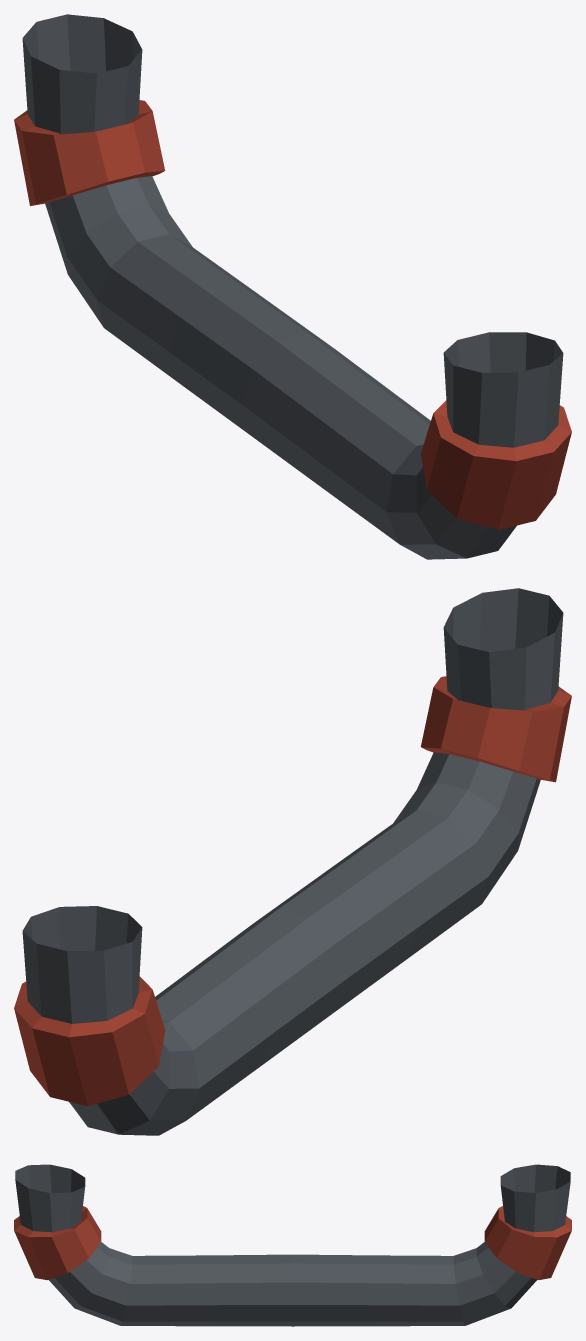
The model's file is Dropship_03_Piping_Small_Red.fbx.
3 renders of one model, top to bottom at view 1: azimuth 30°, elevation 25°; view 2: azimuth 150°, elevation 25°; view 3: azimuth 270°, elevation 25°, orthographic. The views are drawn at different scales.
Parts seen in each view (by area): view 1: Dropship_03_Piping_Small_Red; view 2: Dropship_03_Piping_Small_Red; view 3: Dropship_03_Piping_Small_Red.
Part boxes in pixels (box(x1,y1,x2,y2)): Dropship_03_Piping_Small_Red: box(14, 14, 571, 559); Dropship_03_Piping_Small_Red: box(14, 588, 571, 1135); Dropship_03_Piping_Small_Red: box(14, 1164, 571, 1326).
Bounding box in the file's own units: 18.57 × 36.77 × 127.
Materials: 1 (1 with a texture image).
